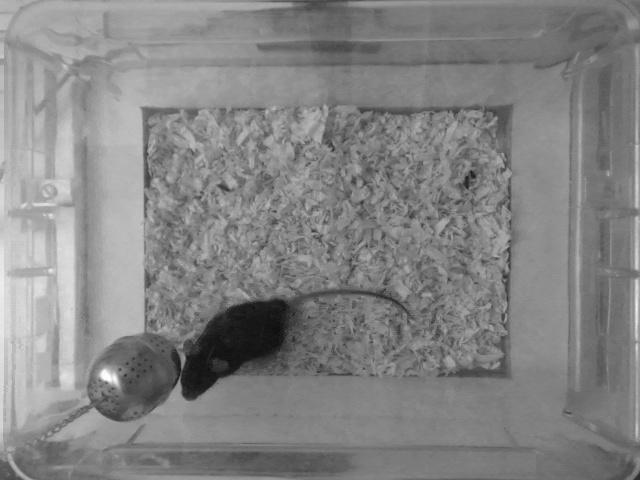mice: (177, 288, 419, 406)
